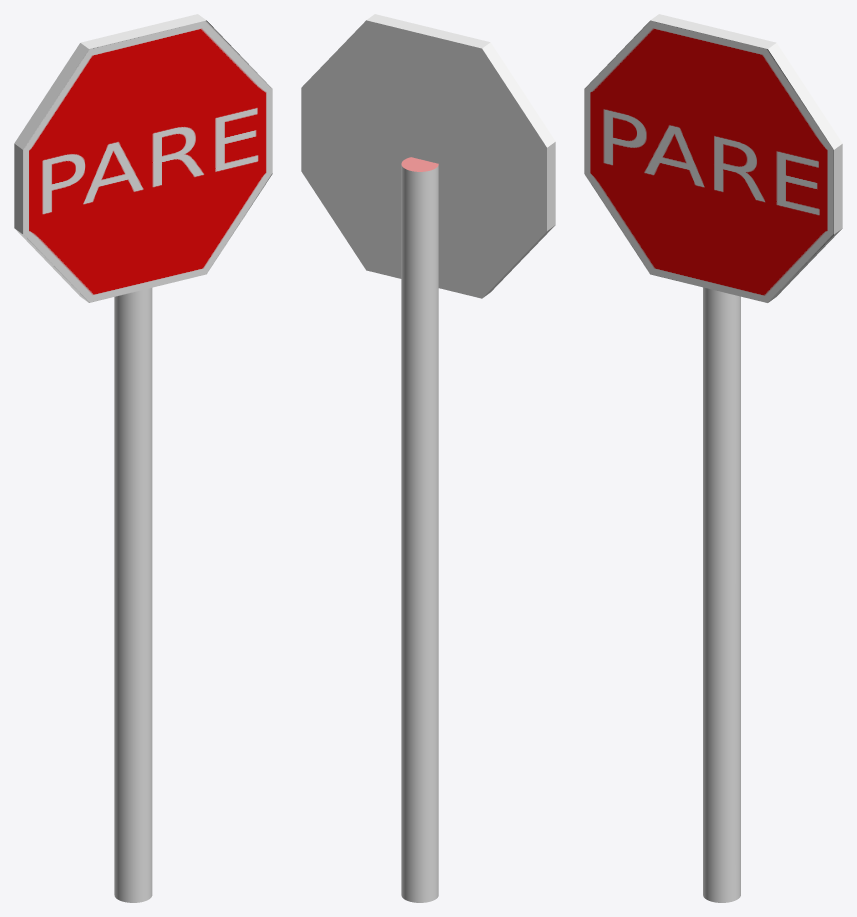
File: PARE.fbx
The picture shows the model from 3 angles, left to right: view 1: azimuth 30°, elevation 25°; view 2: azimuth 150°, elevation 25°; view 3: azimuth 330°, elevation 25°; orthographic projection.
Visible parts, largest first — view 1: Cylinder.004; view 2: Cylinder.004; view 3: Cylinder.004.
Boxes of the visible parts, bbox=[...] form: Cylinder.004: bbox=[14, 14, 272, 902]; Cylinder.004: bbox=[301, 14, 555, 902]; Cylinder.004: bbox=[584, 14, 842, 902].
Size of the model in its own units: 76.11 by 253 by 12.24.
Materials: 2 (2 with a texture image).
